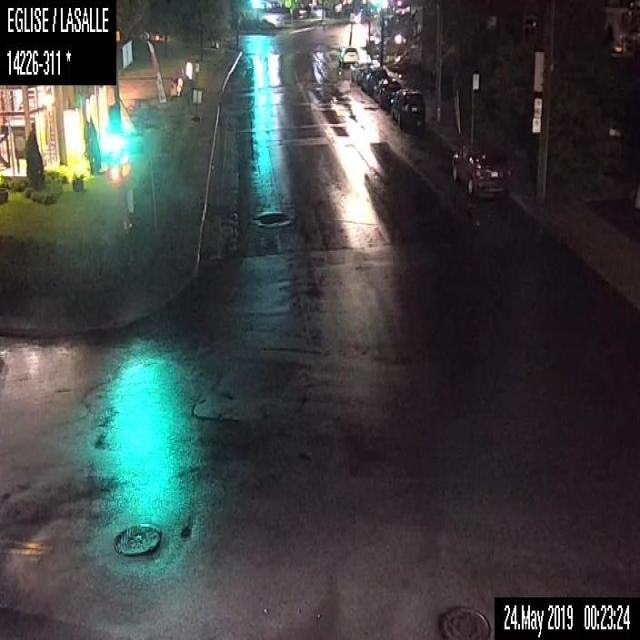vehicle: (449, 145, 507, 196), (389, 86, 425, 130), (372, 76, 399, 109), (360, 65, 386, 92), (349, 59, 373, 83), (337, 45, 360, 66)
